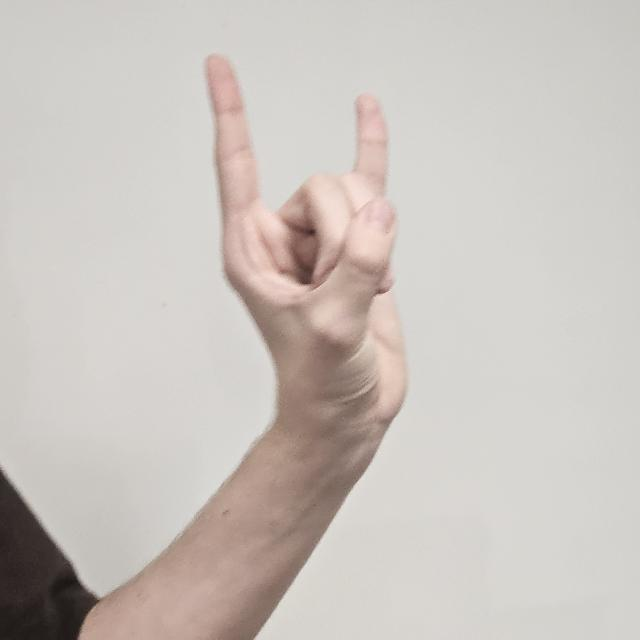L: (204, 56, 412, 442)
